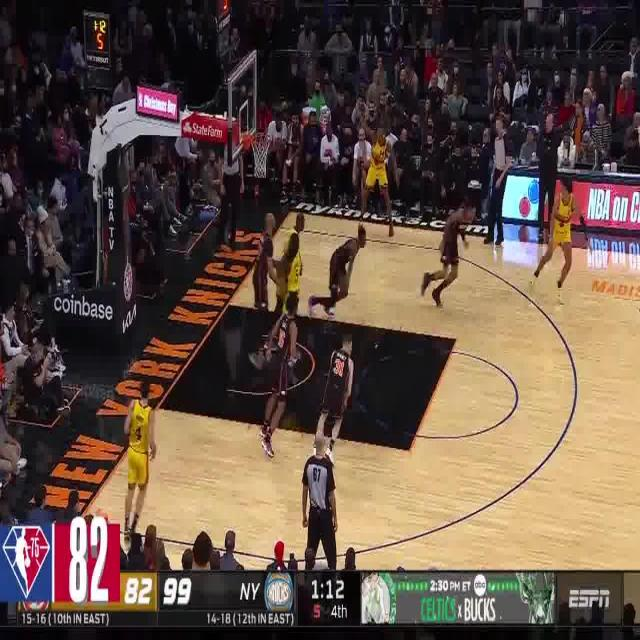ball-handler: (305, 225, 367, 322)
